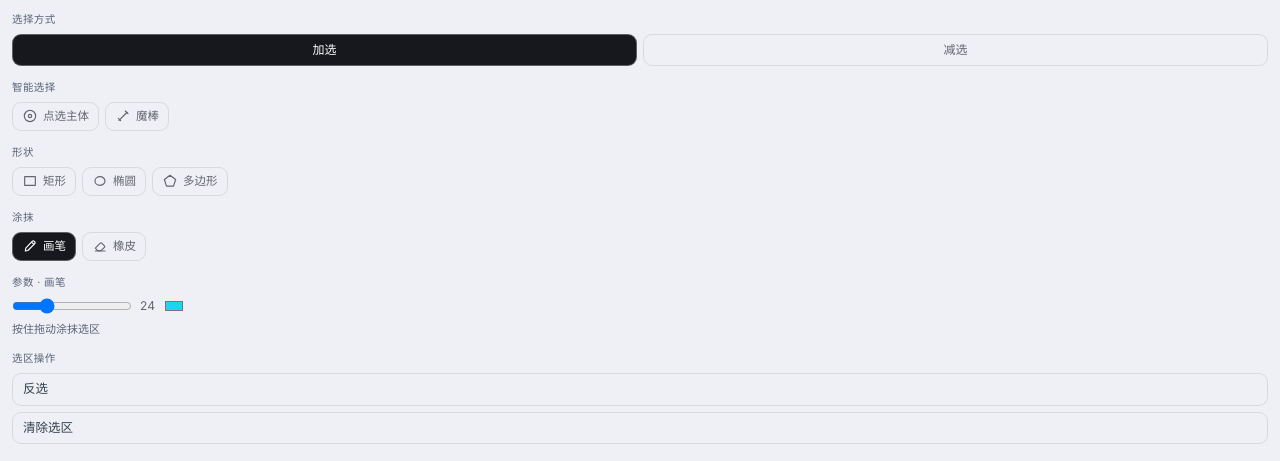
Test: RefineSelectionPanel › 点工具写 store，参数区随 param 三态切换
The image size is (1280, 461).
Click the button with test id "refine-selection-tool-wand" at (137, 116), box [105,102,169,131]
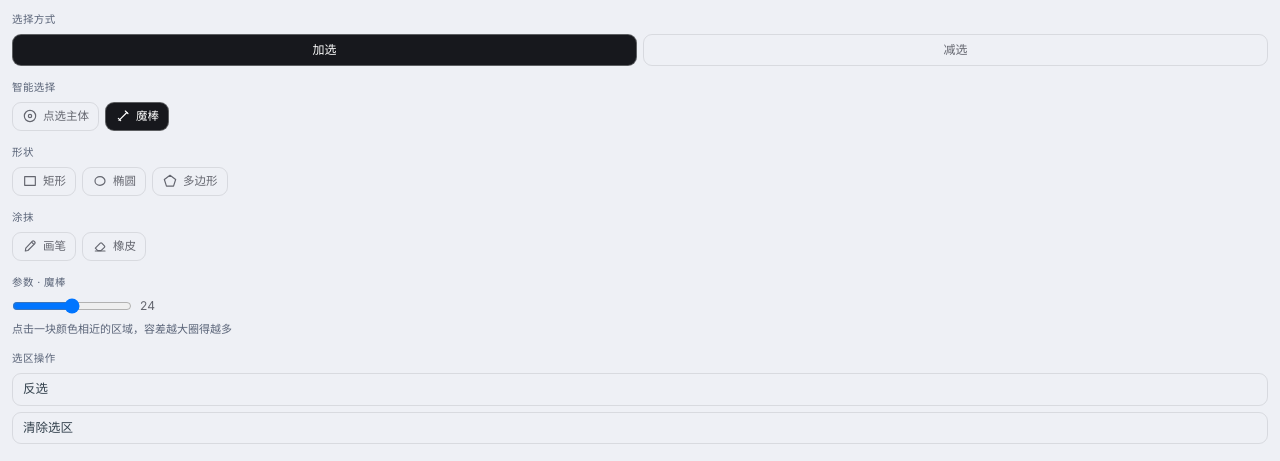
Expected: the text "24" is shown, [12,298,155,314]
Click the button with test id "refine-selection-tool-rect" at (44, 181), box [12,166,76,196]
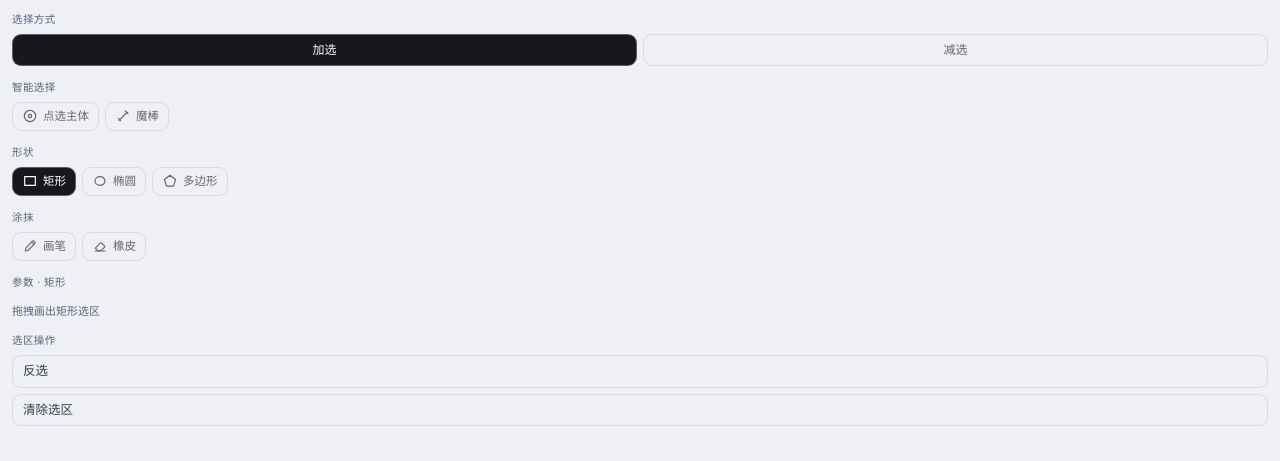
Click the button with test id "refine-selection-tool-brush" at (44, 246), box [12,232,76,261]
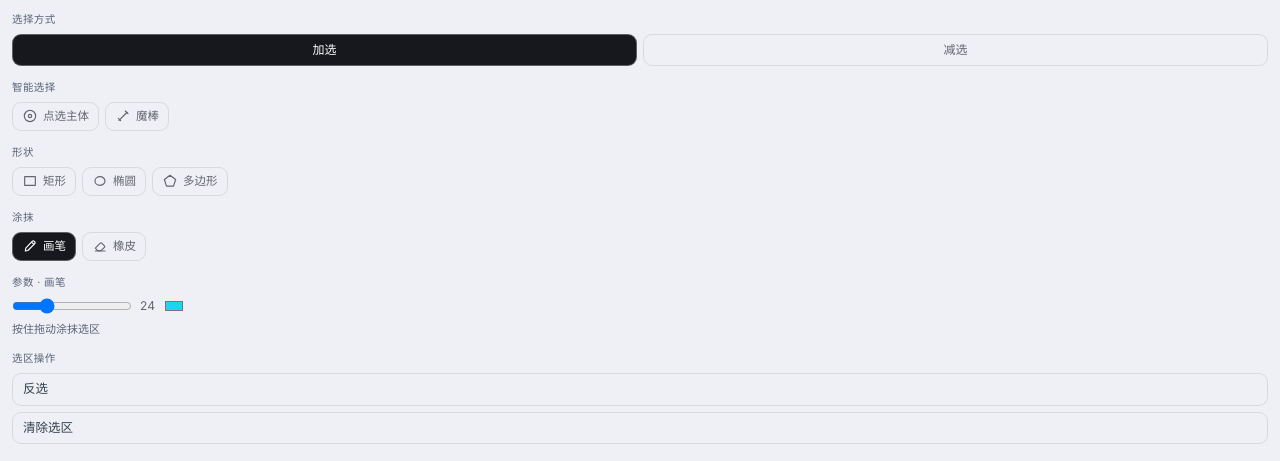
Expected: the text "24" is shown, [12,296,185,314]
